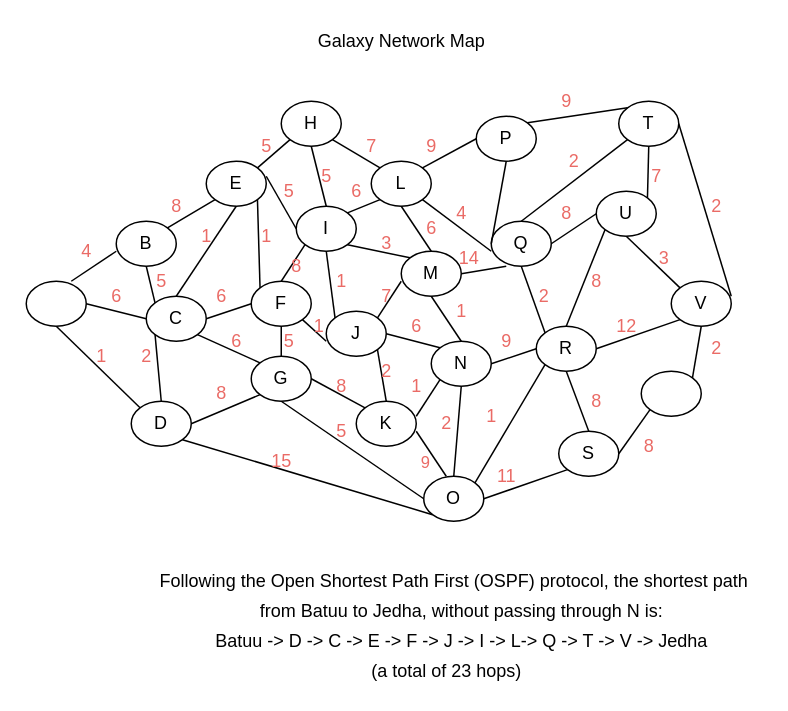
This 788x711 diagram has some shape labels left out. The box of each missing label's shape, as (x1, y1, x2, y2) in pixels:
Batuu: (25, 280, 86, 326)
Jedha: (640, 370, 701, 416)
